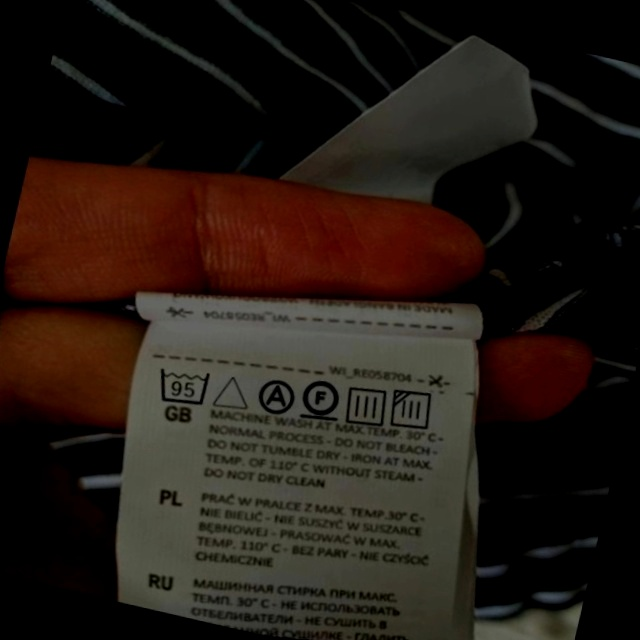95C: (149, 355, 220, 417)
bleach: (206, 363, 257, 419)
drip_dry: (336, 375, 397, 435)
drip_dry_in_shade: (382, 379, 445, 441)
dry_clean: (249, 370, 302, 422)
dry_clean_petrol_only: (293, 368, 350, 429)
